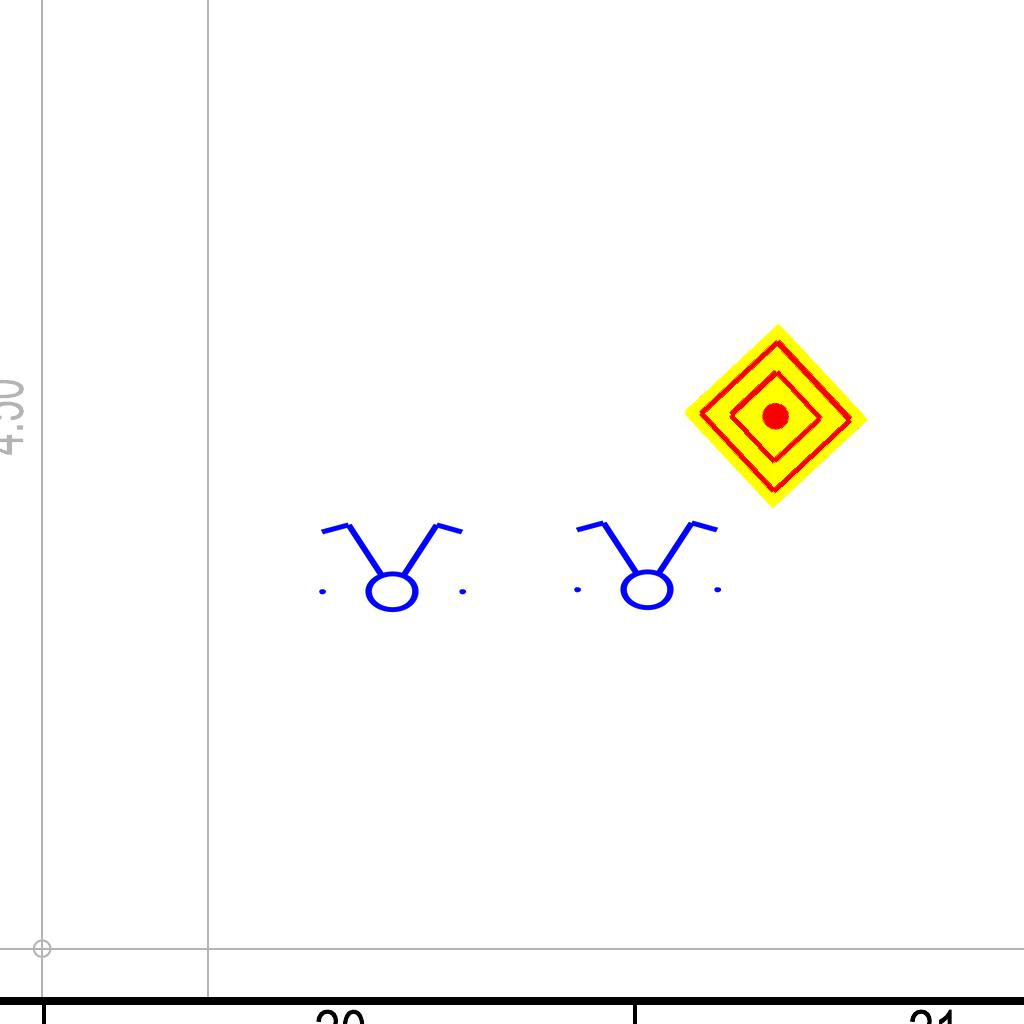NAM-Nichtautomatischer_Melder: (682, 322, 870, 510)
Serienschalter: (307, 518, 475, 614), (562, 516, 730, 612)
